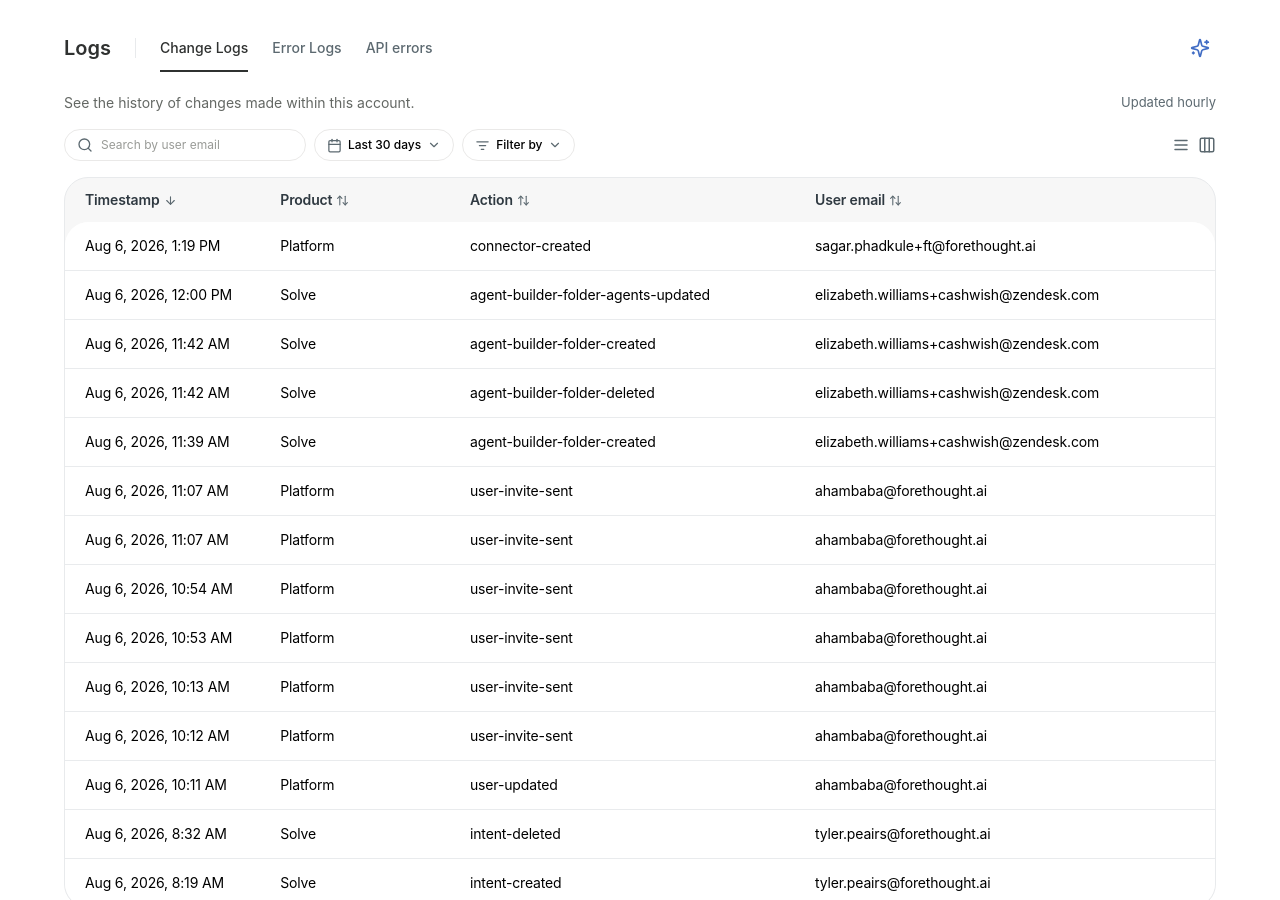
Test: LogScreen › opens the Conversation Details drawer from an API errors row
The image size is (1280, 900).
What coordinates should you click on to do the following:
click the tab "API errors"
I would click on:
 (399, 54)
Its box is x1=366 y1=36 x2=432 y2=72.
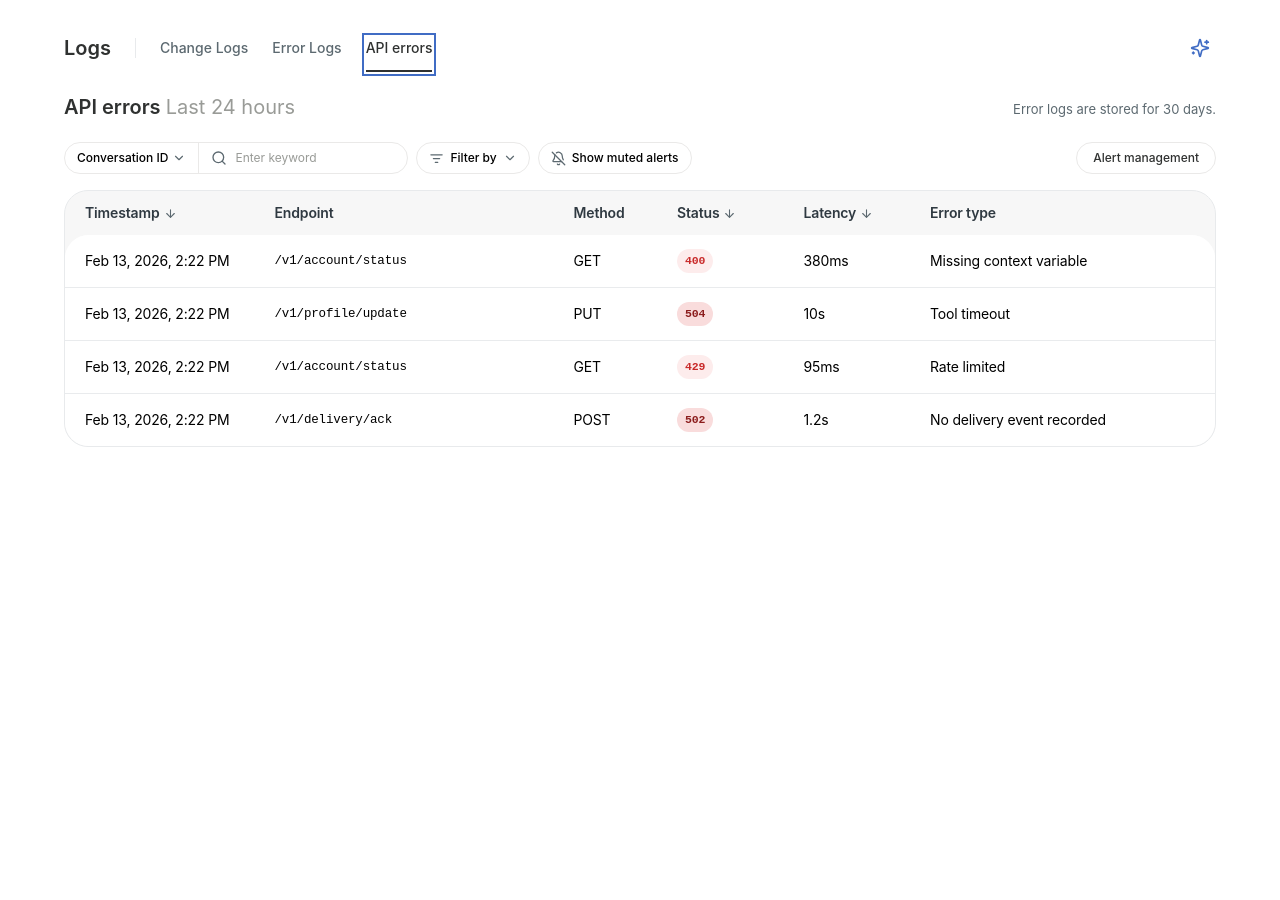
What coordinates should you click on to do the following:
click the button with test id "api-error-row-ae2"
I would click on:
 (640, 314)
Its box is x1=65 y1=288 x2=1215 y2=341.
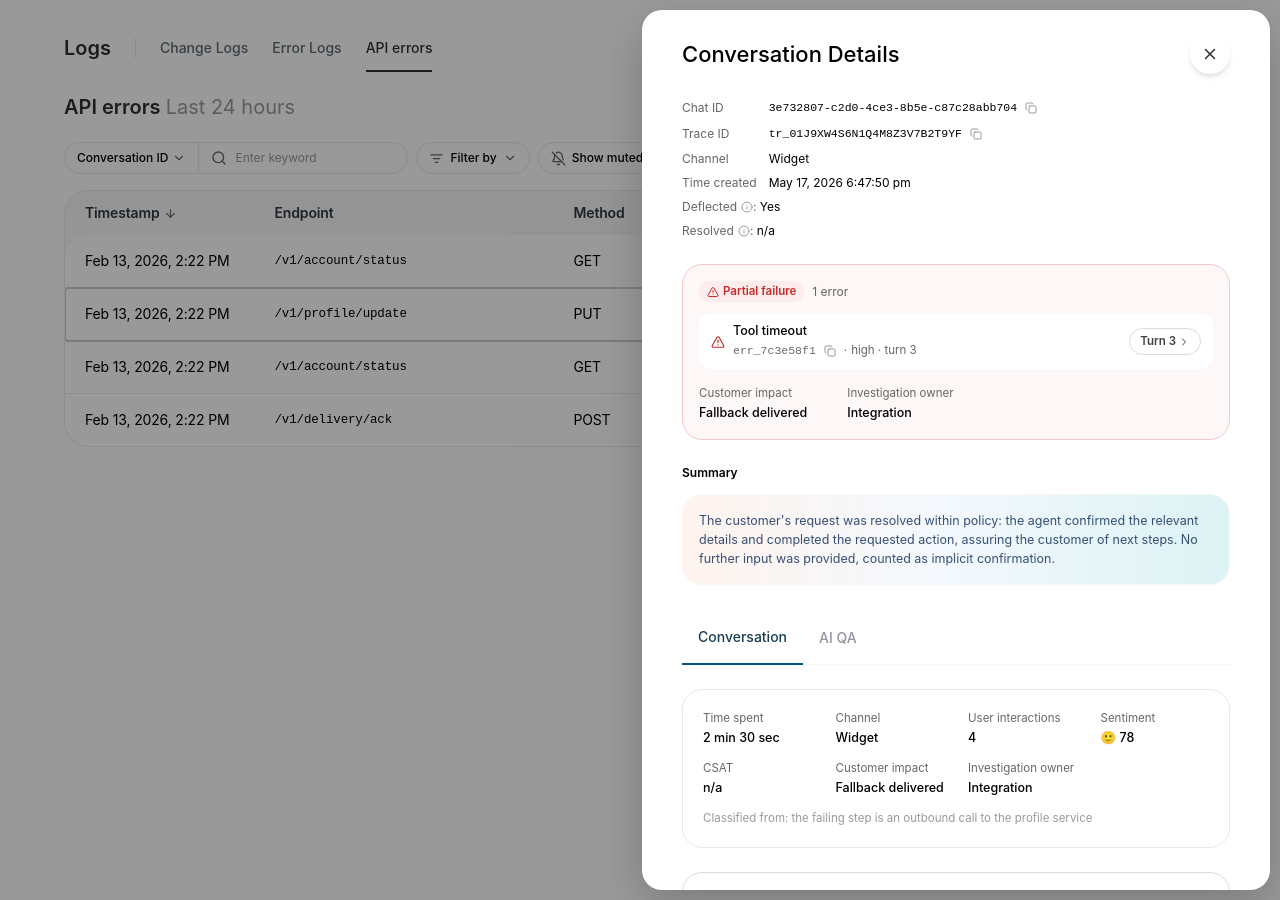
Check: the element with test id "conversation-identity" shows "3e732807-c2d0-4ce3-8b5e-c87c28abb704", box x1=769 y1=101 x2=1017 y2=114
